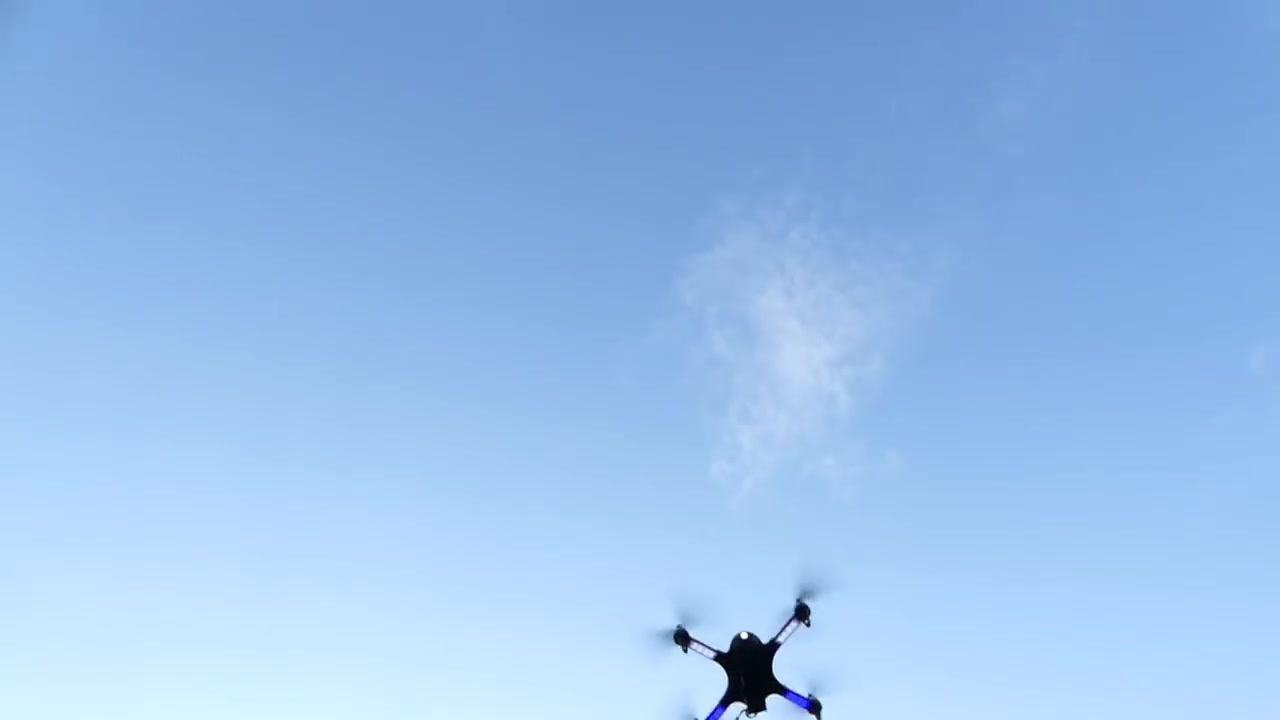UAV: (659, 579, 832, 720)
